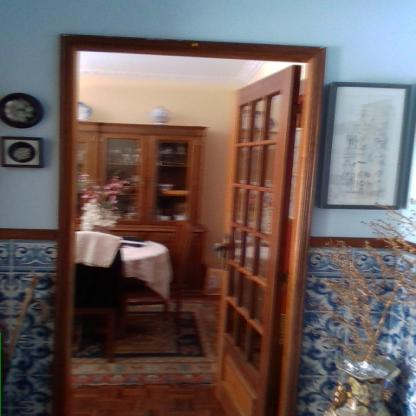open: (38, 25, 335, 416)
